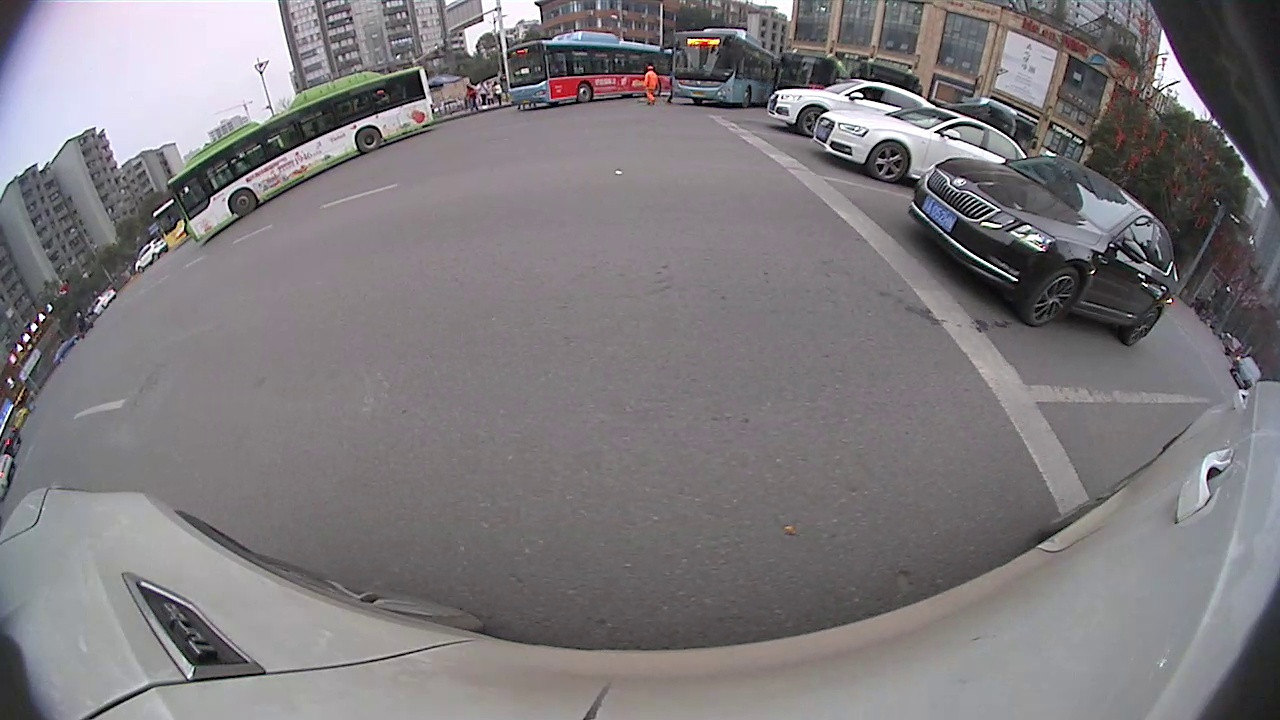bus: (166, 64, 438, 248), (503, 29, 676, 108), (671, 27, 779, 108), (152, 196, 193, 251)
car: (906, 153, 1181, 349), (812, 104, 1026, 184), (765, 77, 937, 138), (133, 235, 170, 275)
front: (1023, 266, 1084, 329), (861, 138, 914, 184), (794, 102, 837, 138), (224, 183, 260, 222), (573, 75, 597, 107)
person: (646, 65, 657, 106)
rear: (1120, 305, 1163, 352), (352, 124, 385, 154)
